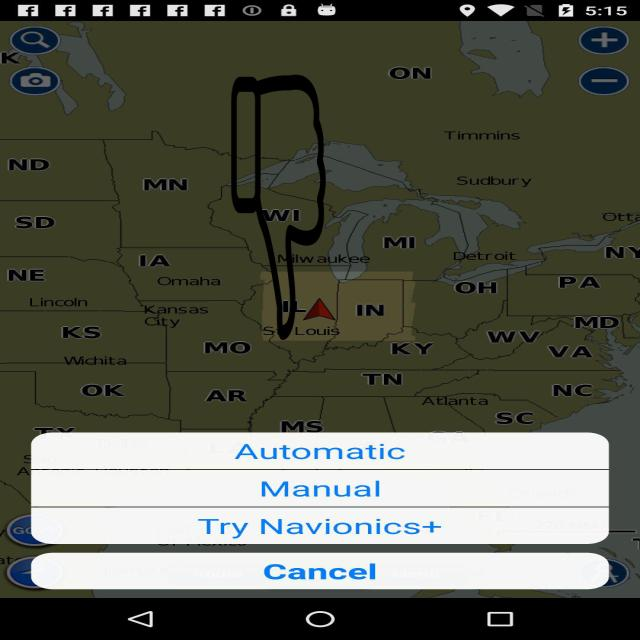obstruction: (230, 75, 327, 340)
